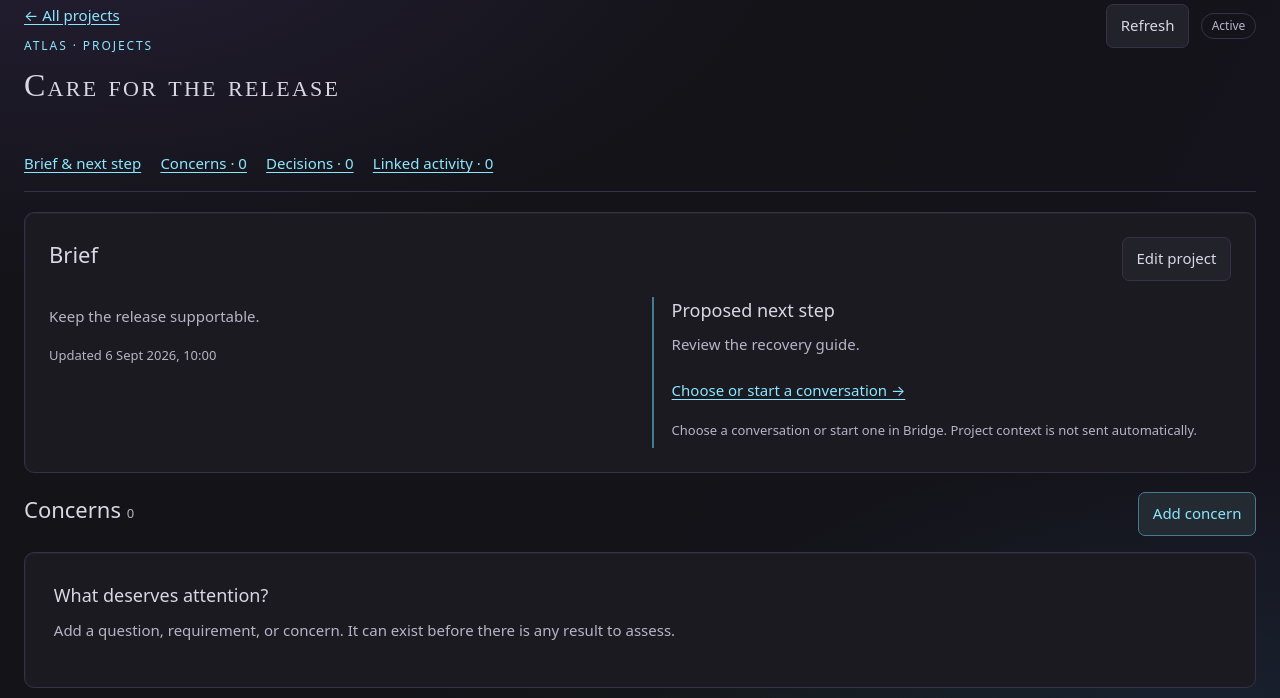
keeps an uncertain mutation's request identity, version, and payload for retry
Check: the heading "Care for the release" is shown, box [24,61,340,111]
Click the button "Edit project" at (1176, 259), box [1122,237,1231,281]
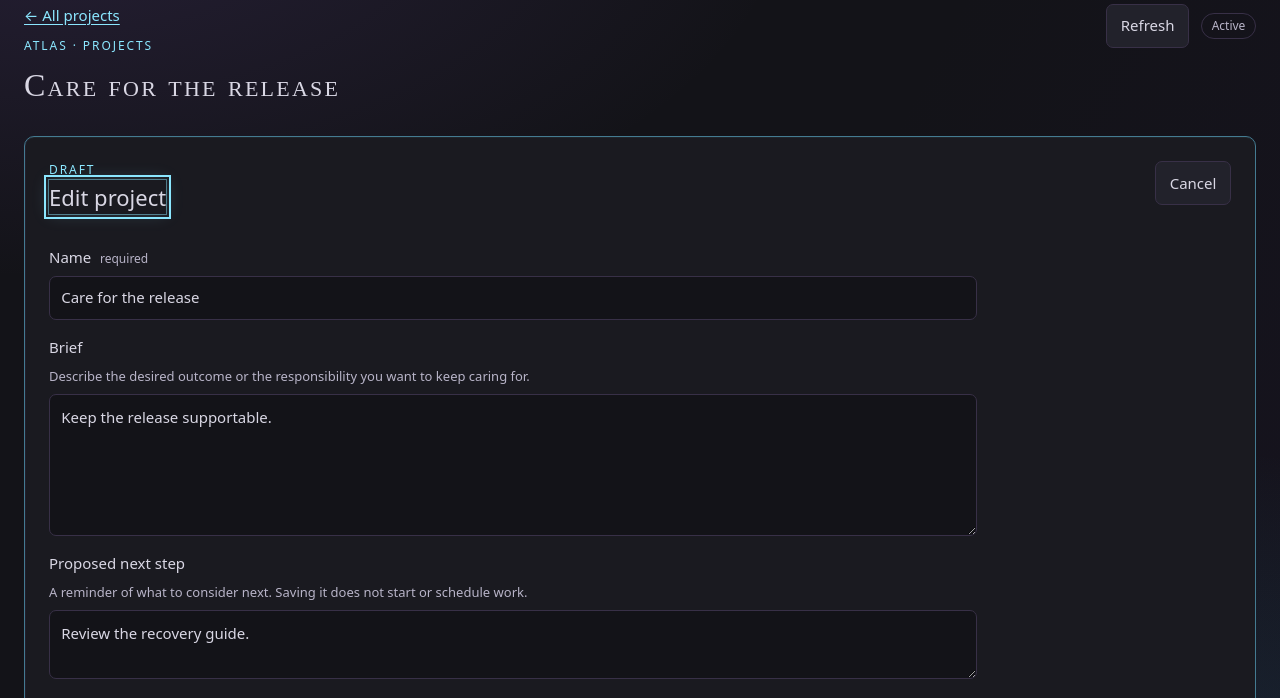
Replace the text in the text box labelled "Proposed next step" with "Ask support to review the guide." at (513, 645), box [49,610,977,679]
(page scrolled)
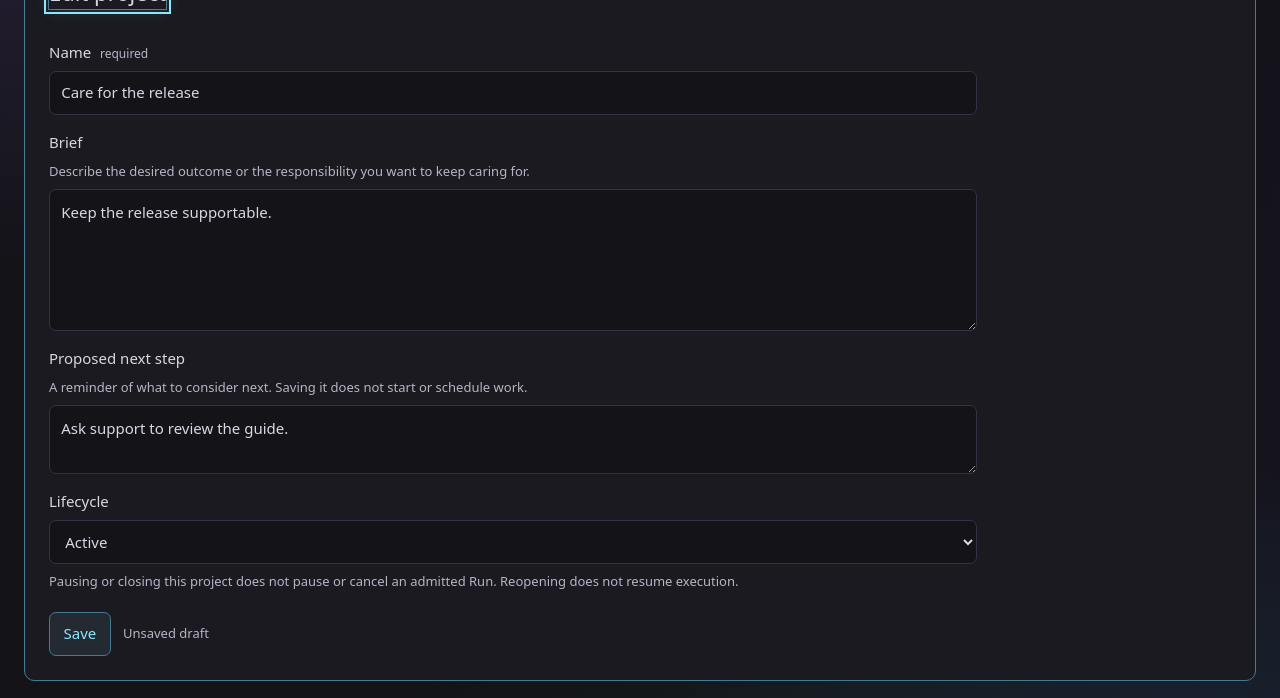
Submit the form named "Edit project"
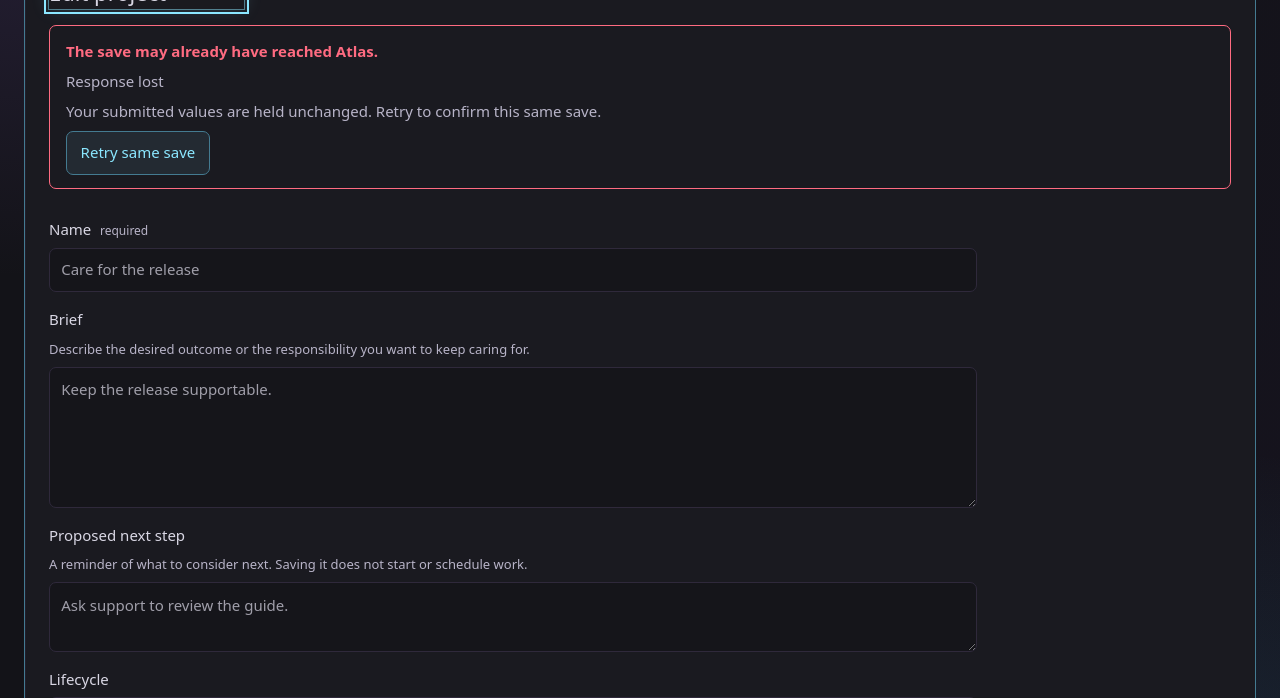
Check: the button "Retry same save" is shown
Click the button "Retry same save" at (138, 153), box [66,131,210,175]
(page scrolled)
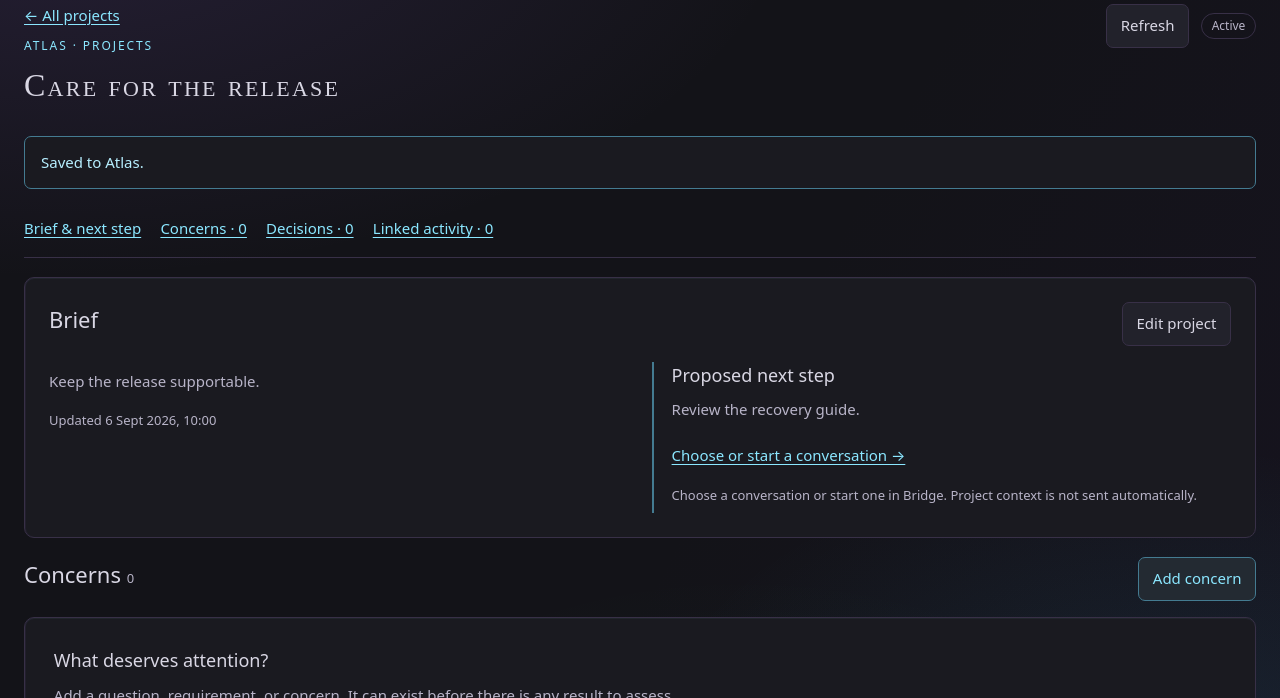
Check: the text "Saved to Atlas." is shown, box [24,136,1256,189]
